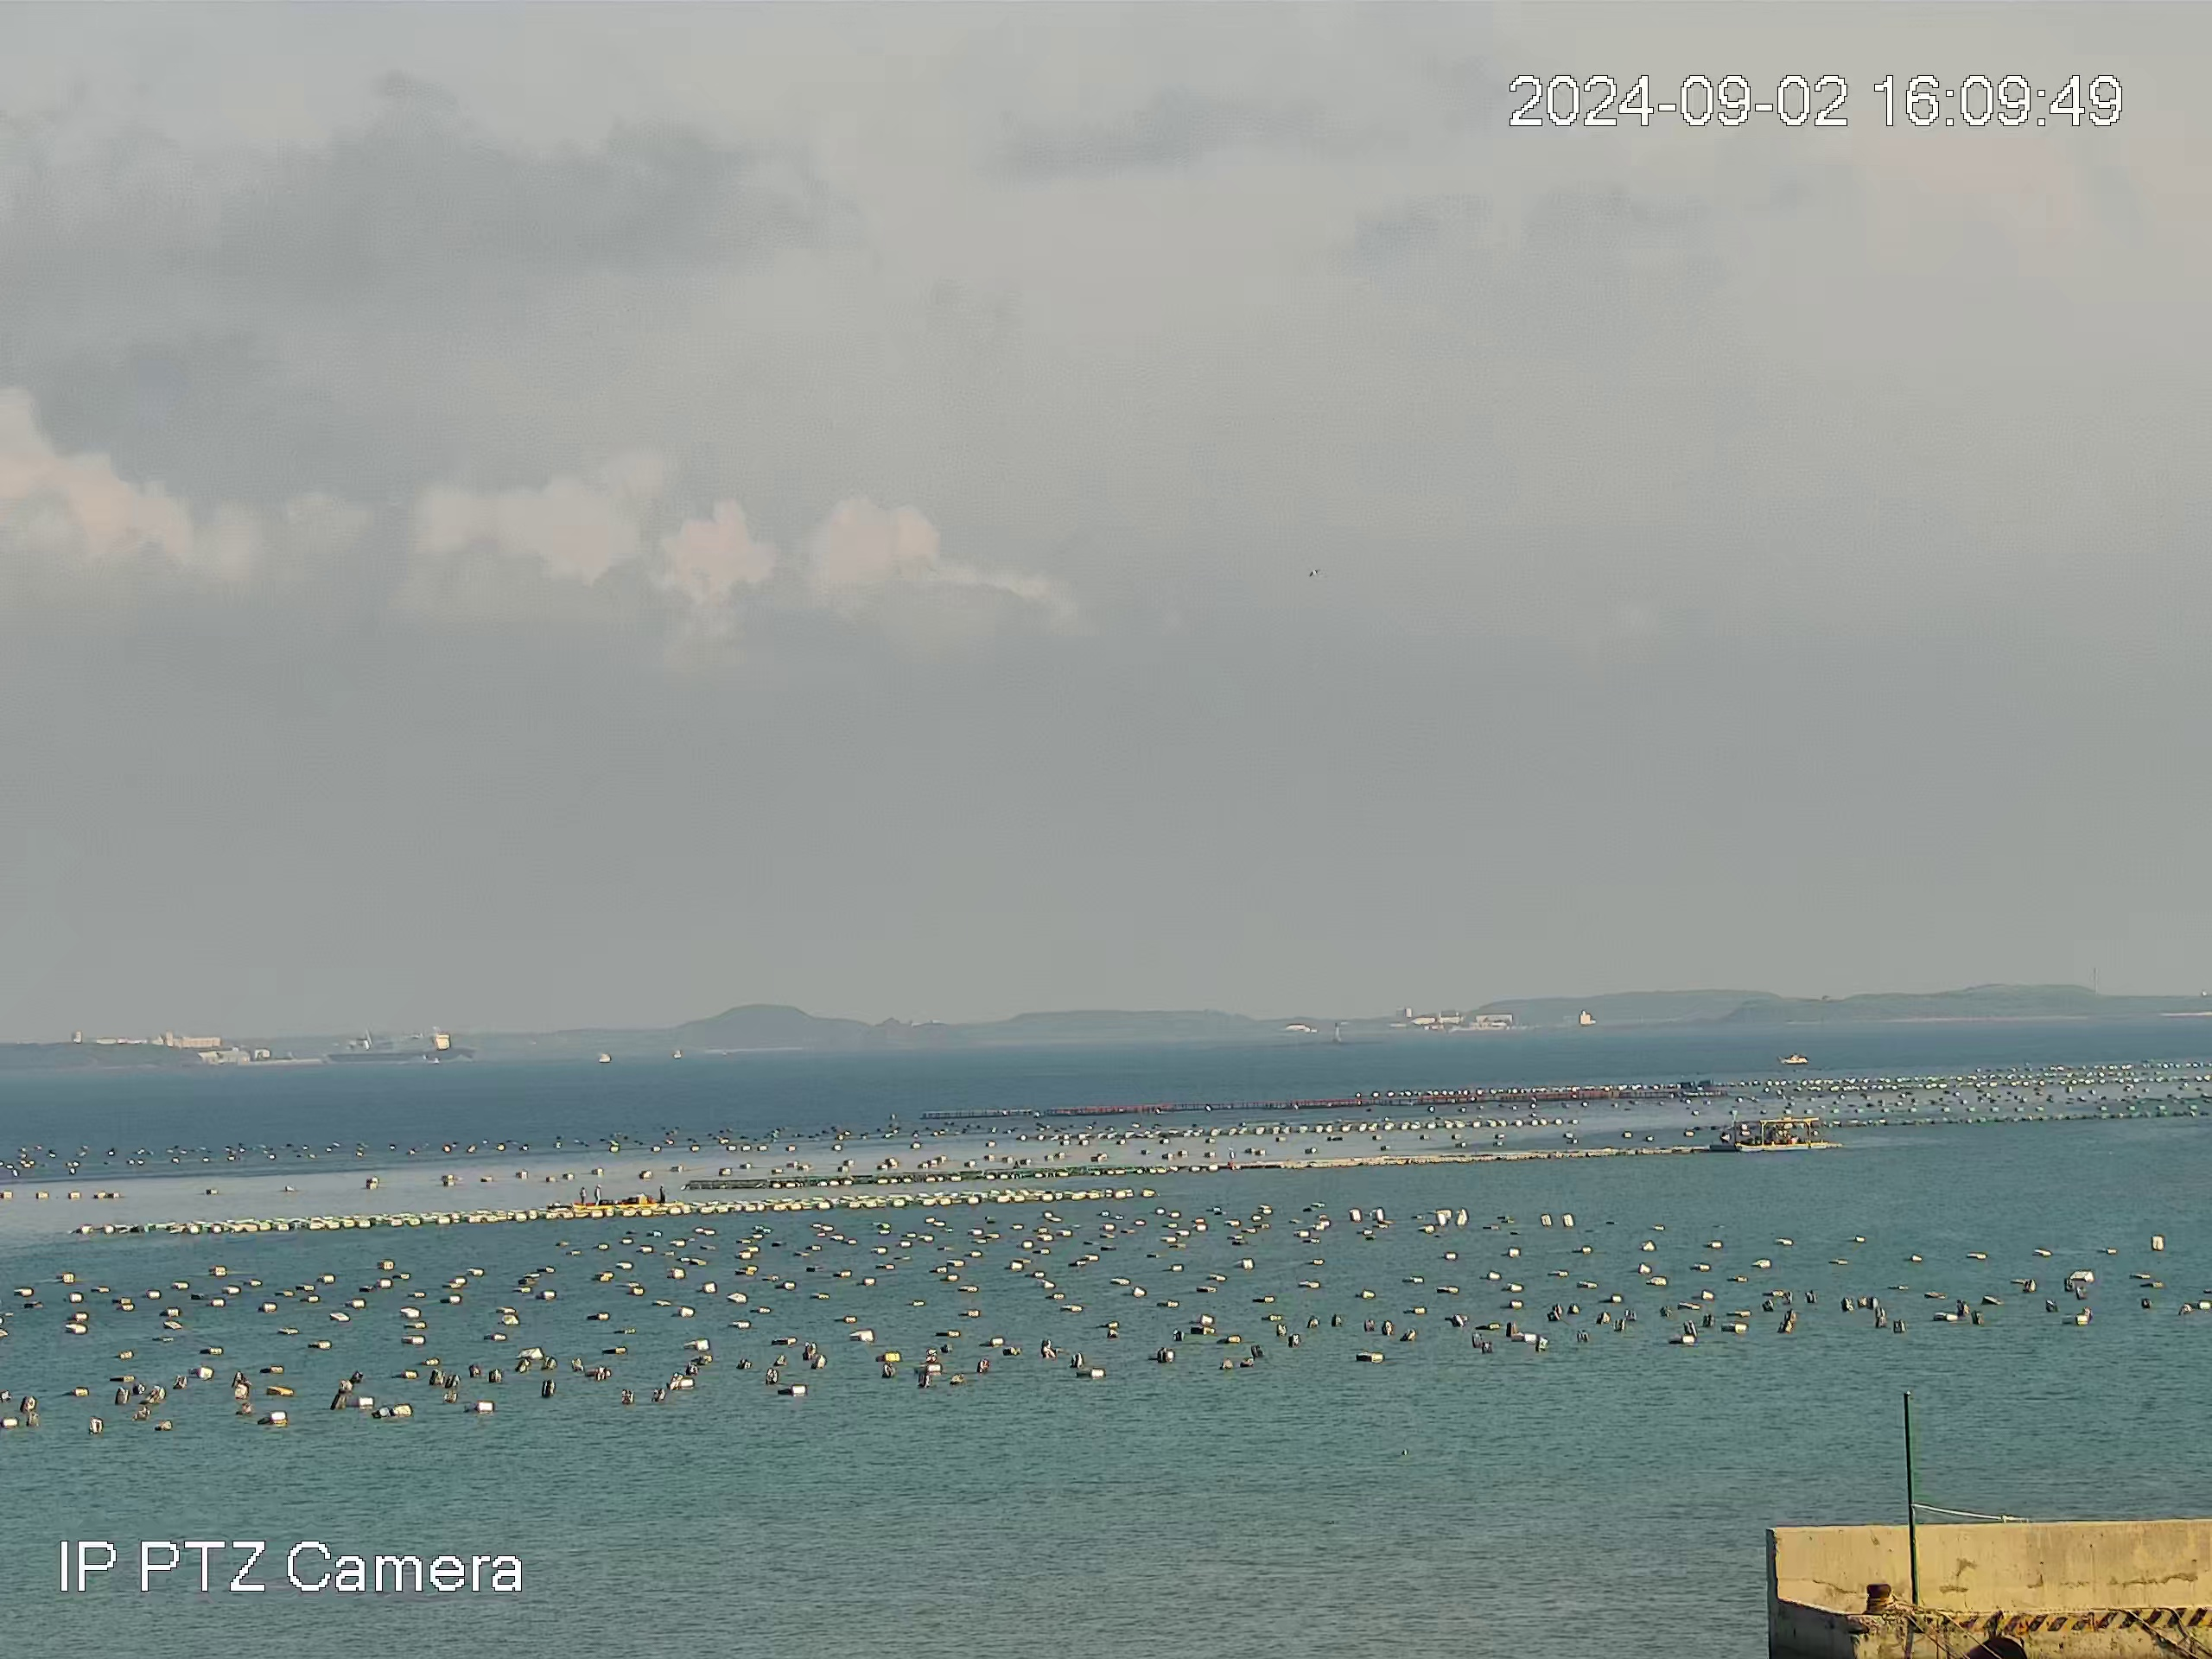boat: (323, 1032, 479, 1064), (1733, 1116, 1829, 1153), (569, 1183, 683, 1209), (1776, 1051, 1808, 1065)
